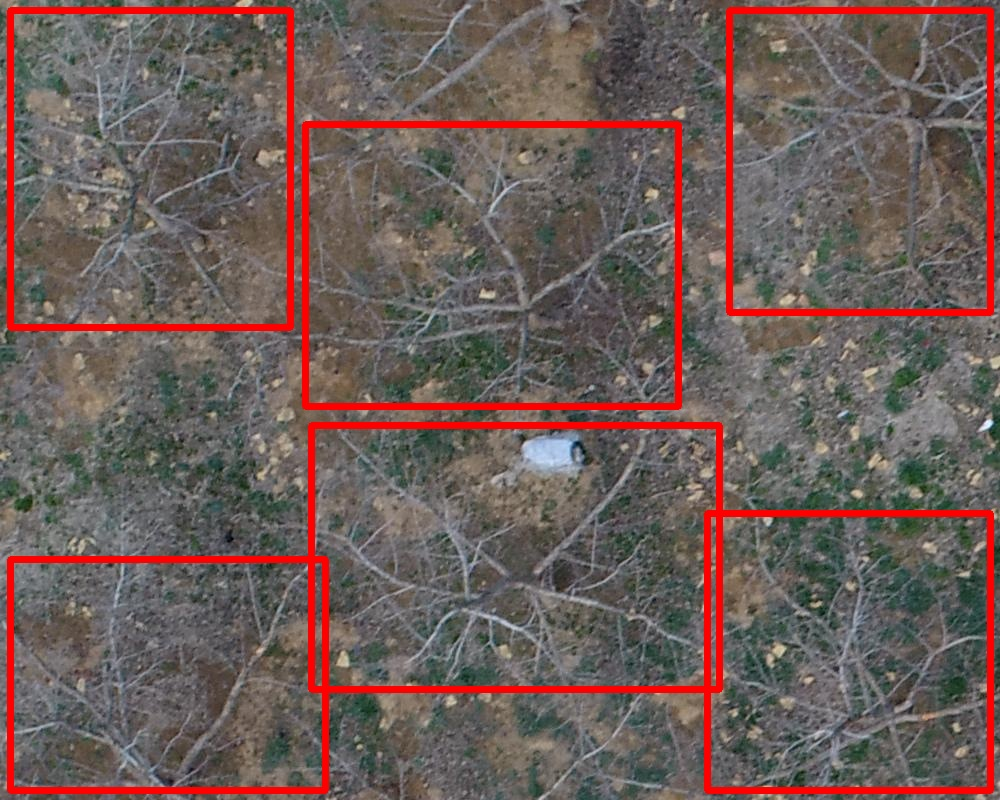apple: (311, 425, 719, 689), (305, 124, 678, 406), (10, 10, 290, 327), (729, 10, 990, 312), (707, 513, 990, 790), (10, 559, 325, 790)
